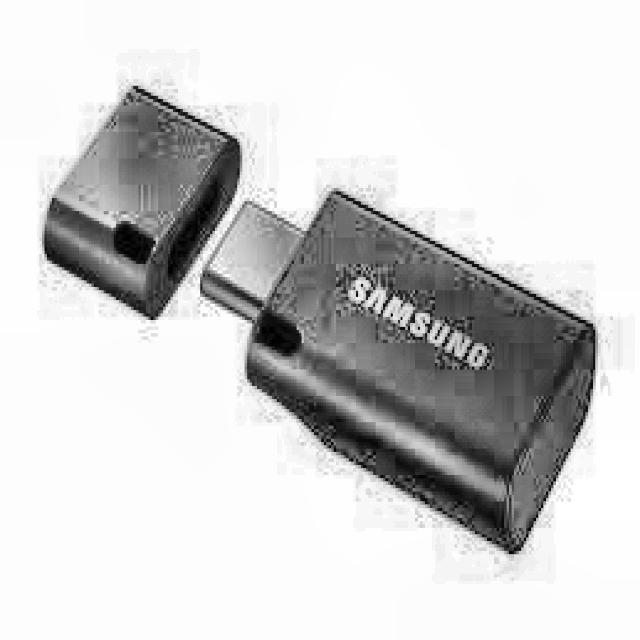Mug: (29, 73, 603, 569)
